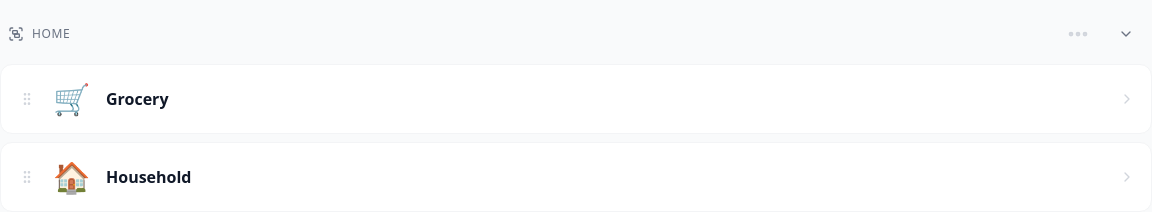
Test case: ListGroupSection › places group options before the collapse chevron without toggling collapse
Click the button named "Group options" at (1078, 34), box [1056,12,1100,56]
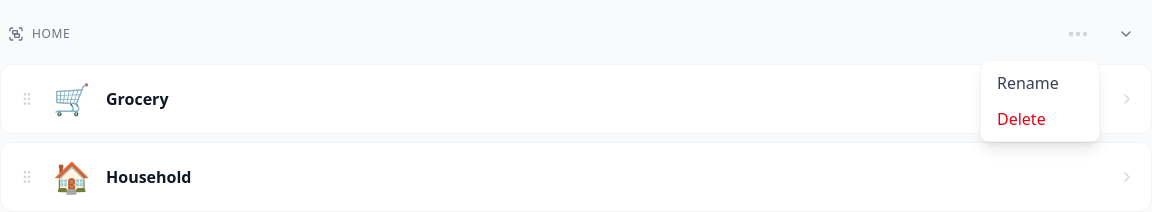
Expected: the number of links is 2, [53,81,1135,117]; [53,159,1135,195]
Expected: the button "Rename" is shown, [981,65,1099,101]
